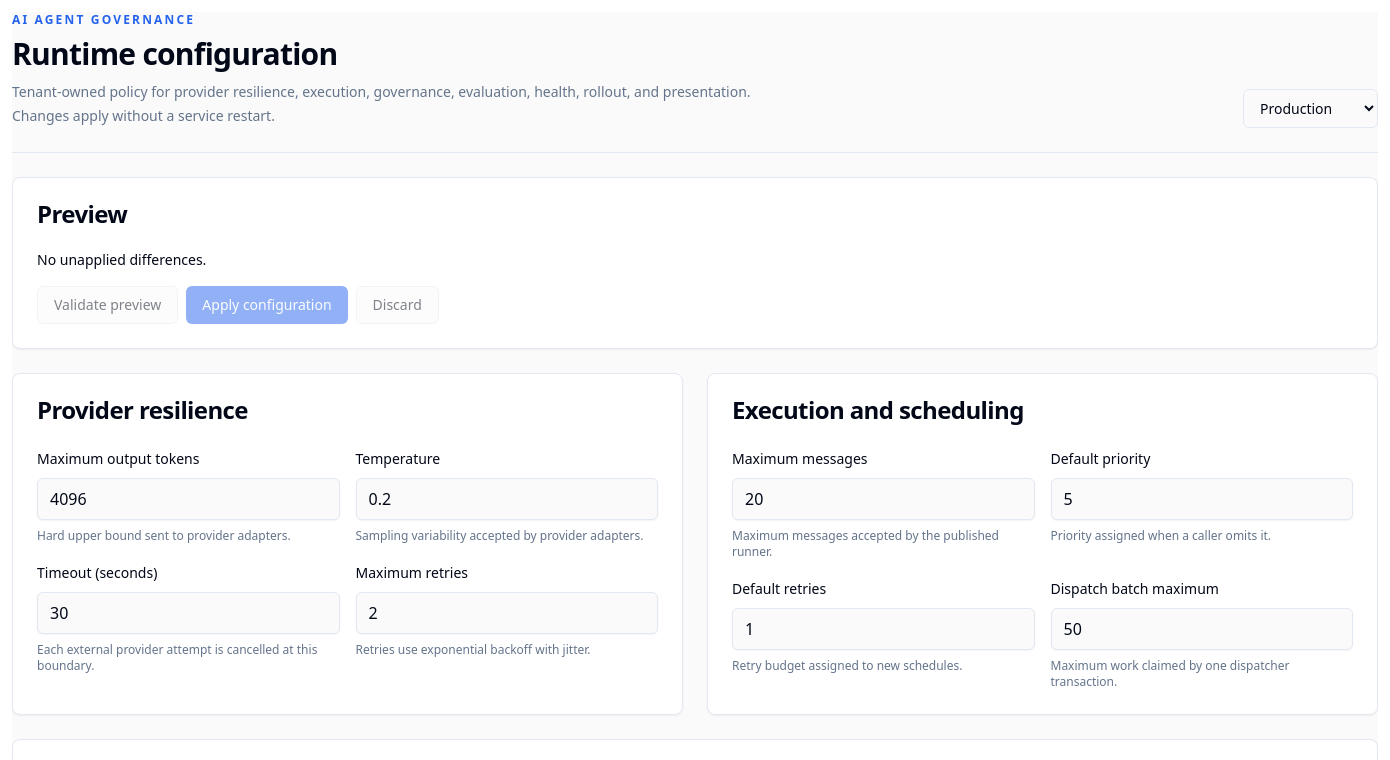
AI agent configuration, governance, form, and detail coverage › blocks invalid configuration before server preview
Expected: the heading "Runtime configuration" is shown, [12,33,337,74]
Replace the text in the 2nd number field with "3" at (507, 499), box [356,478,658,520]
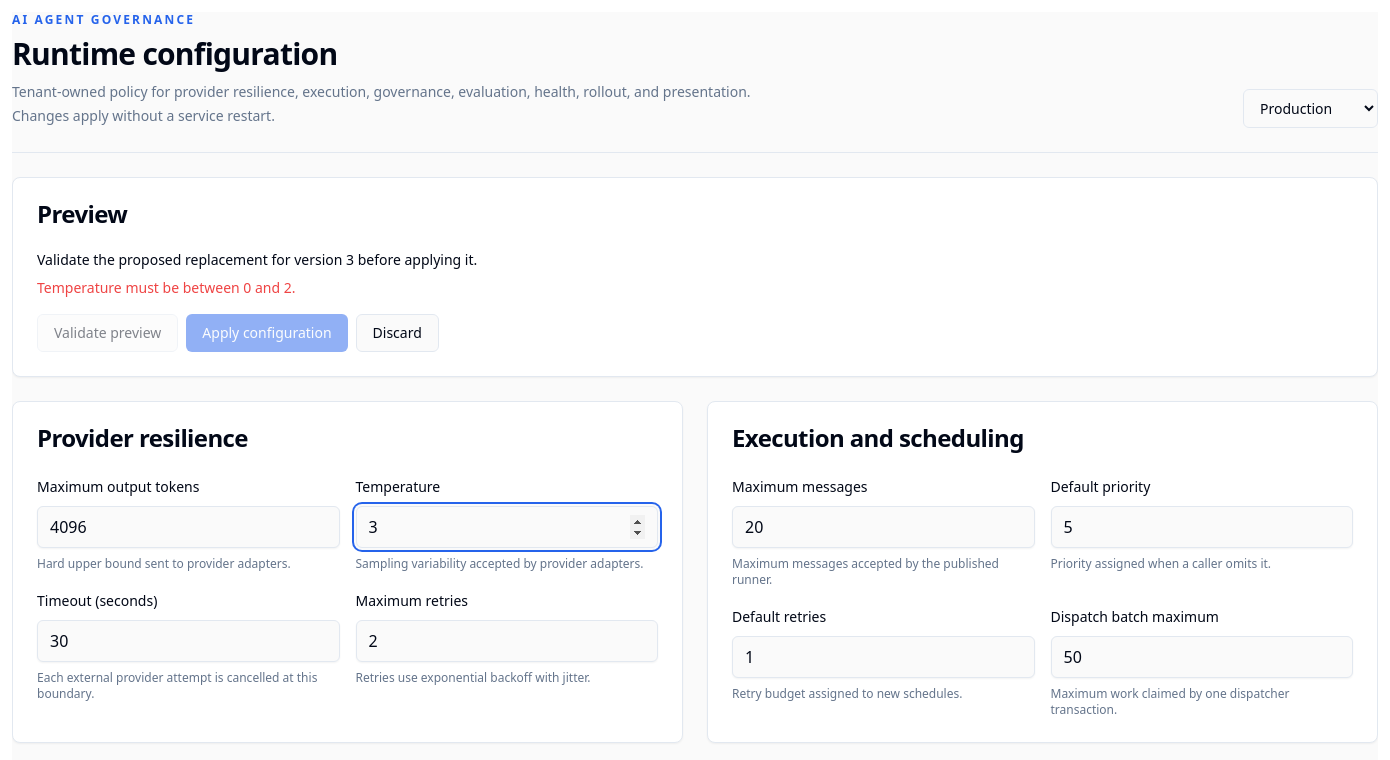
Now the message reads "Temperature must be between 0 and 2.", box [37,278,296,297]
Now the button "Validate preview" is disabled, box [37,314,178,352]
